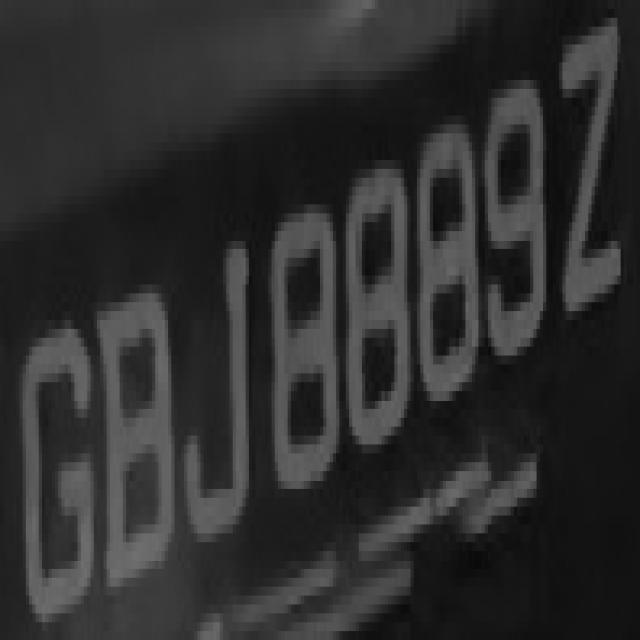8: (262, 195, 349, 516), (404, 106, 485, 426), (342, 133, 410, 480)
9: (472, 80, 556, 400)
B: (94, 266, 184, 604)
G: (0, 4, 1, 9)
J: (174, 213, 258, 604)
Z: (549, 0, 636, 364)
